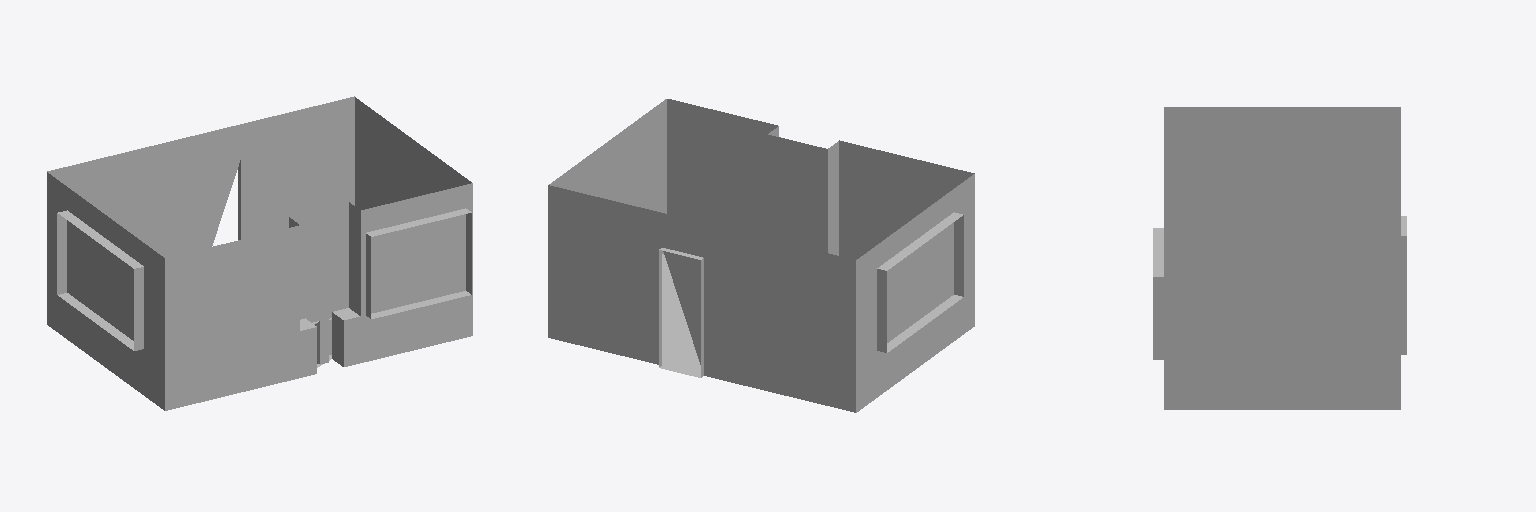
File: living_room_mini.obj
3 renders of one model, left to right at view 1: azimuth 30°, elevation 25°; view 2: azimuth 150°, elevation 25°; view 3: azimuth 270°, elevation 25°, orthographic.
Parts seen in each view (by area): view 1: living_room; view 2: living_room; view 3: living_room.
Part boxes in pixels (left/top/right/bottom): living_room: left=47, top=96, right=472, bottom=410; living_room: left=548, top=99, right=974, bottom=412; living_room: left=1153, top=107, right=1406, bottom=409.
Bounding box in the file's own units: 0.0717 × 0.0329 × 0.0498.